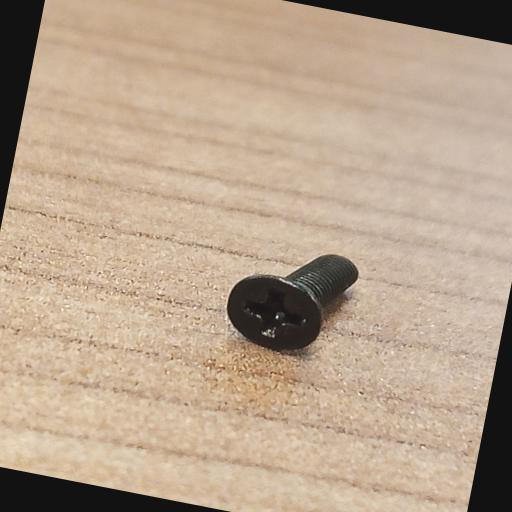Phillips: (214, 259, 338, 368)
